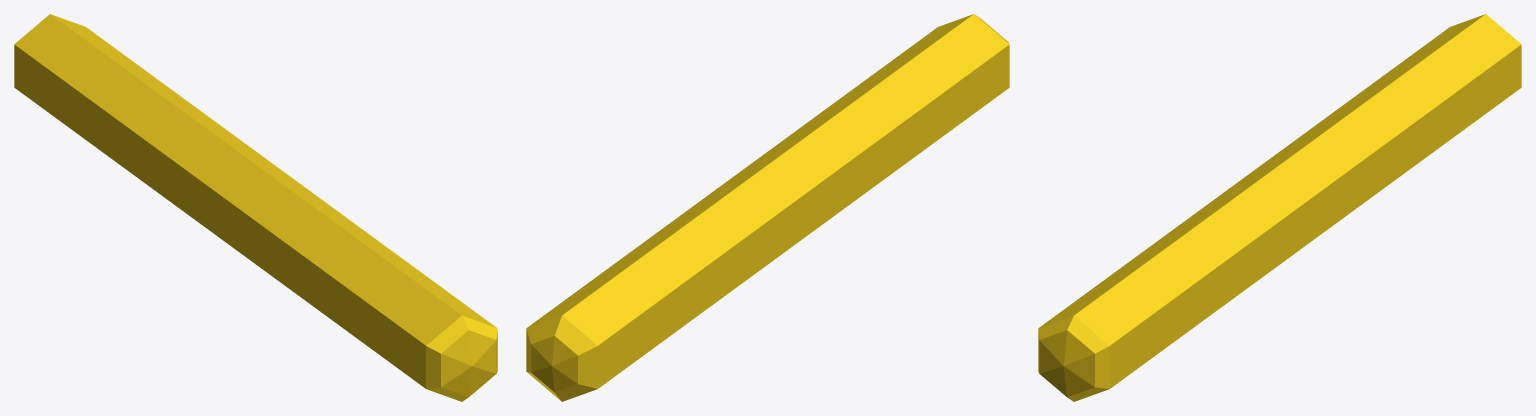
Rendered from Bacteria_Long.fbx.
The picture shows the model from 3 angles, left to right: view 1: azimuth 30°, elevation 25°; view 2: azimuth 150°, elevation 25°; view 3: azimuth 330°, elevation 25°; orthographic projection.
Parts seen in each view (by area): view 1: Bacteria_Long; view 2: Bacteria_Long; view 3: Bacteria_Long.
Boxes of the visible parts, left/top/right/bottom form: Bacteria_Long: left=14, top=14, right=497, bottom=401; Bacteria_Long: left=526, top=14, right=1009, bottom=401; Bacteria_Long: left=1038, top=14, right=1521, bottom=401.
Bounding box in the file's own units: 14.46 × 16.7 × 151.
